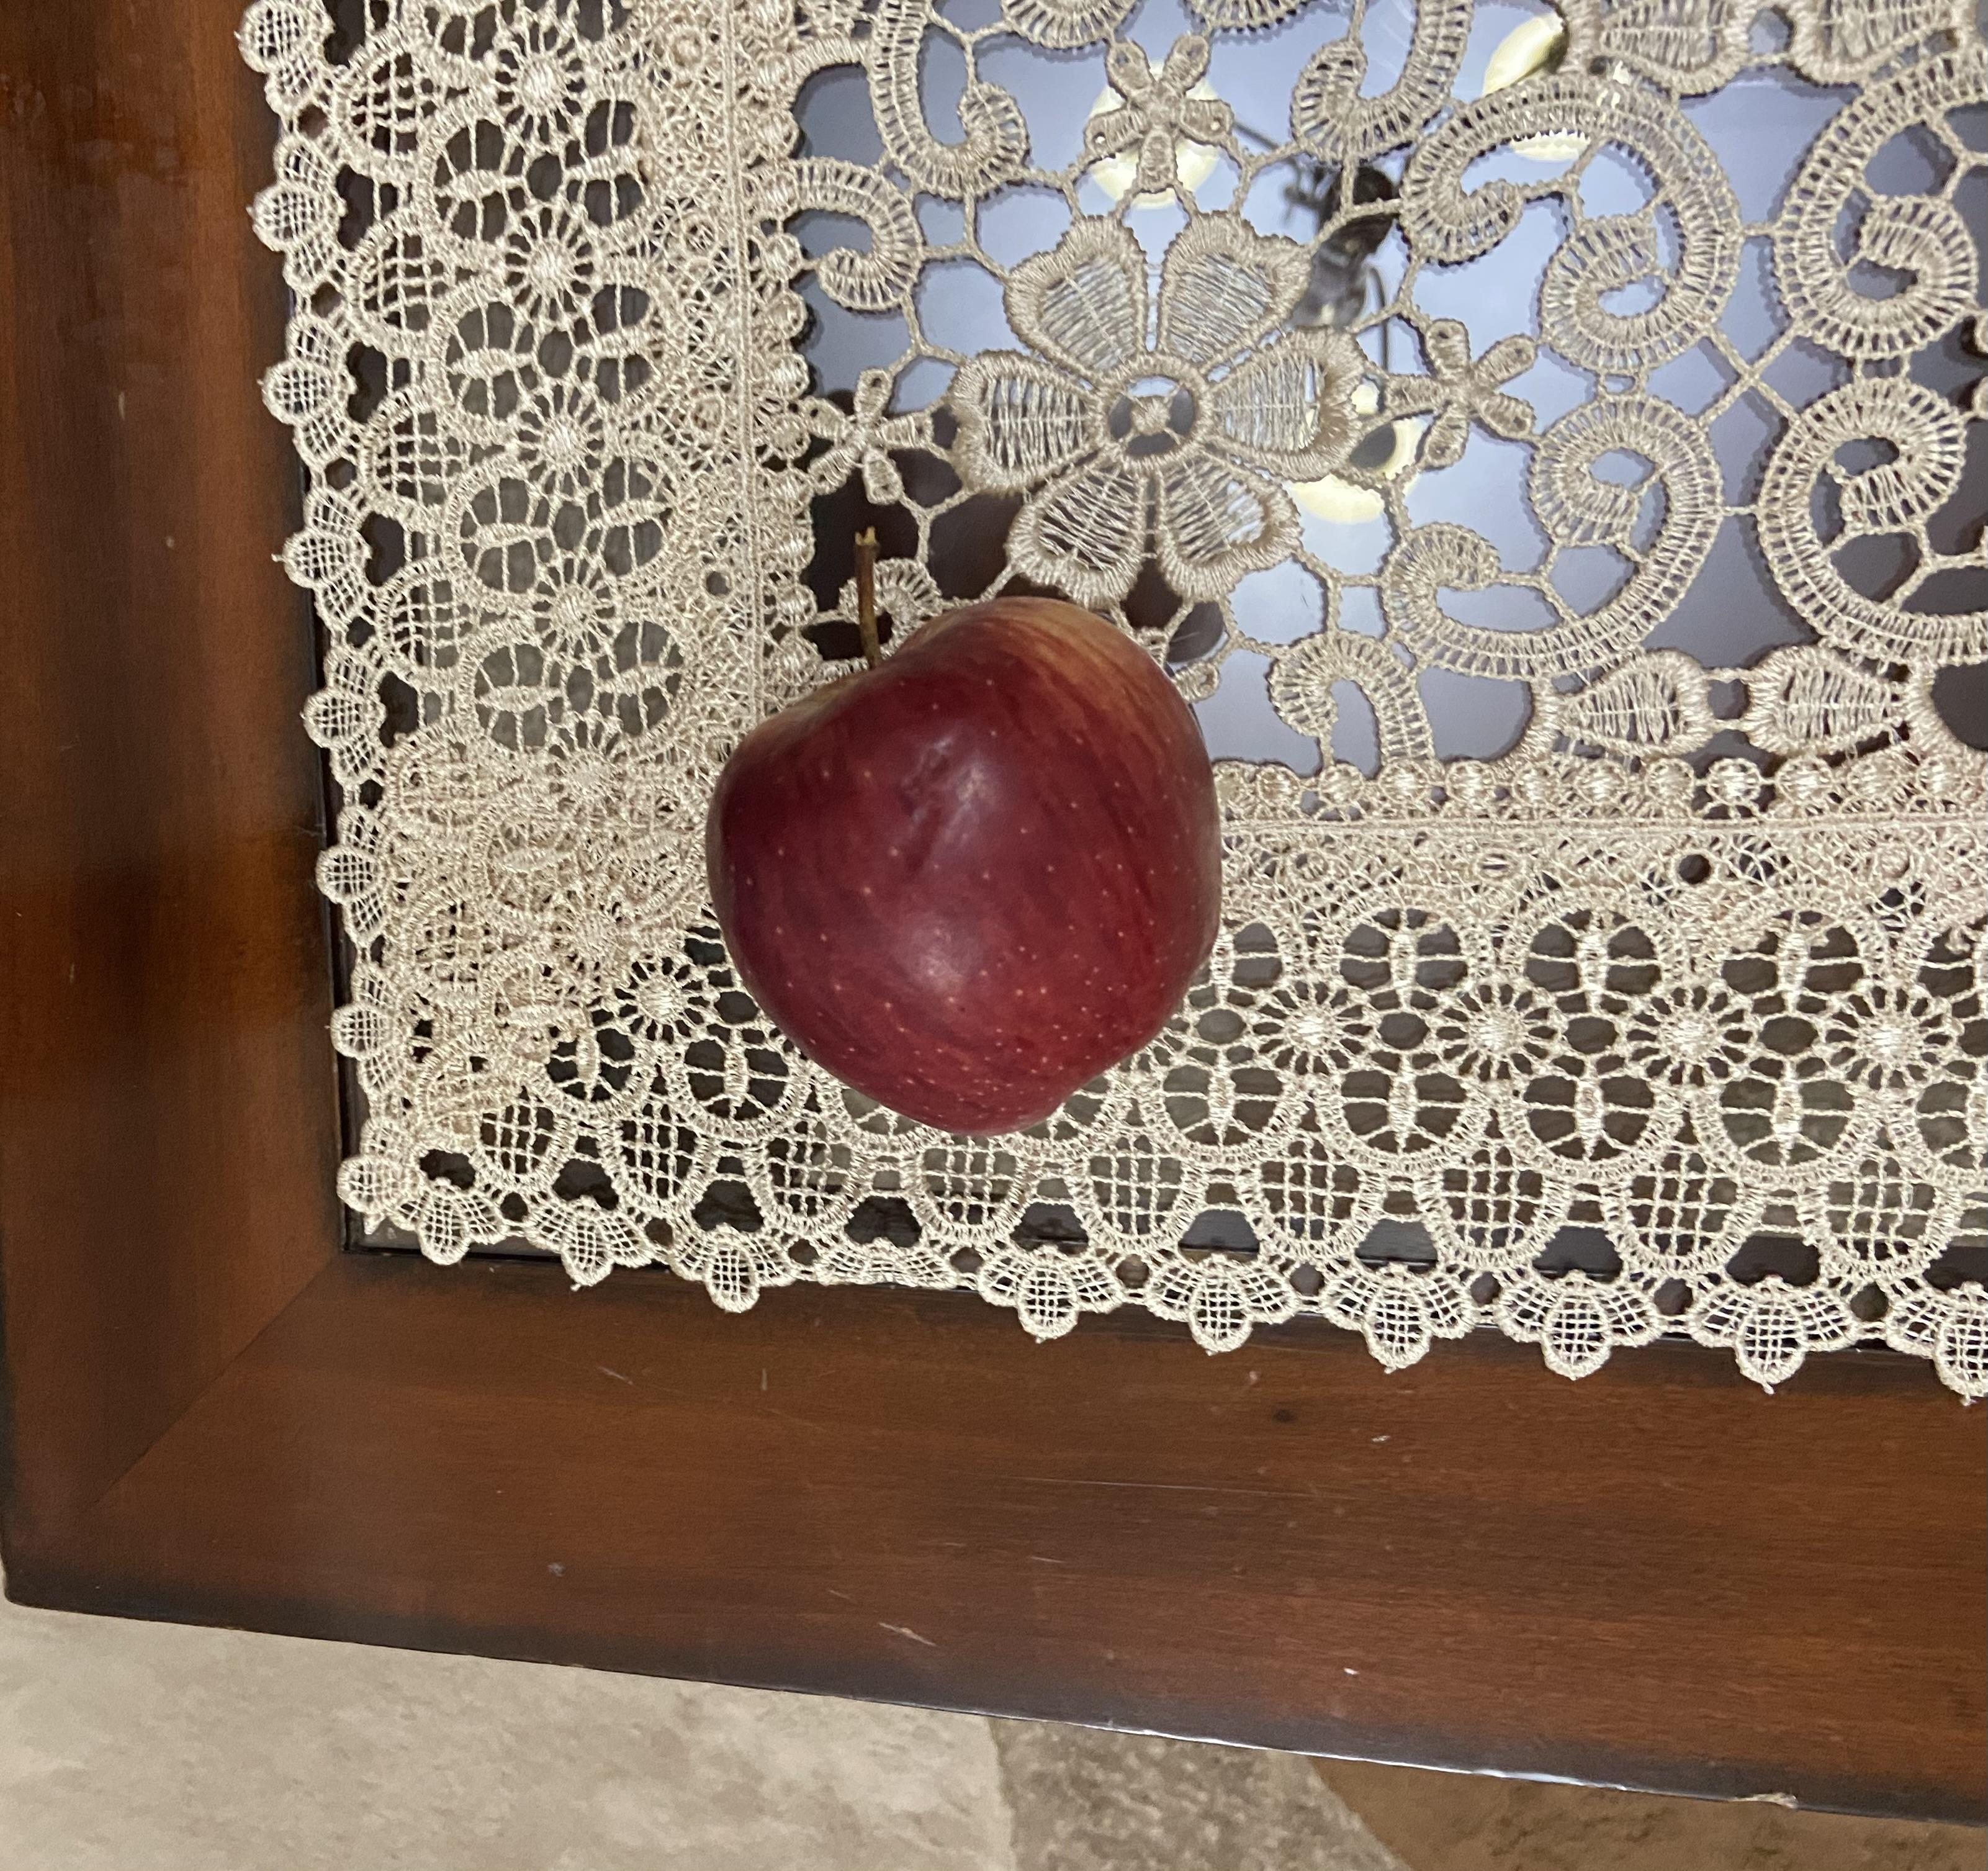Apple: (703, 508, 1230, 1136)
